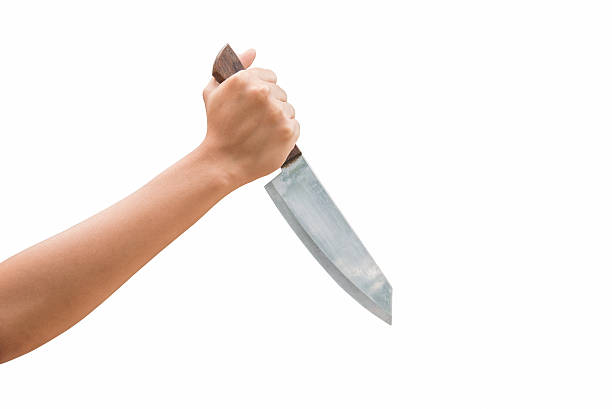knife: (209, 41, 395, 330)
